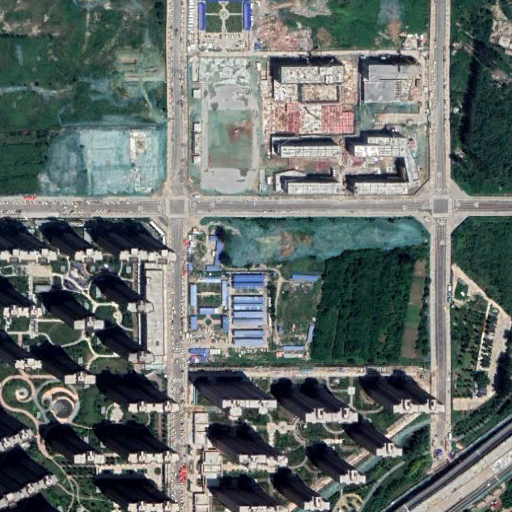cw: (217, 216, 435, 270), (188, 53, 266, 193), (42, 115, 167, 195), (355, 101, 420, 129), (403, 133, 429, 195)
